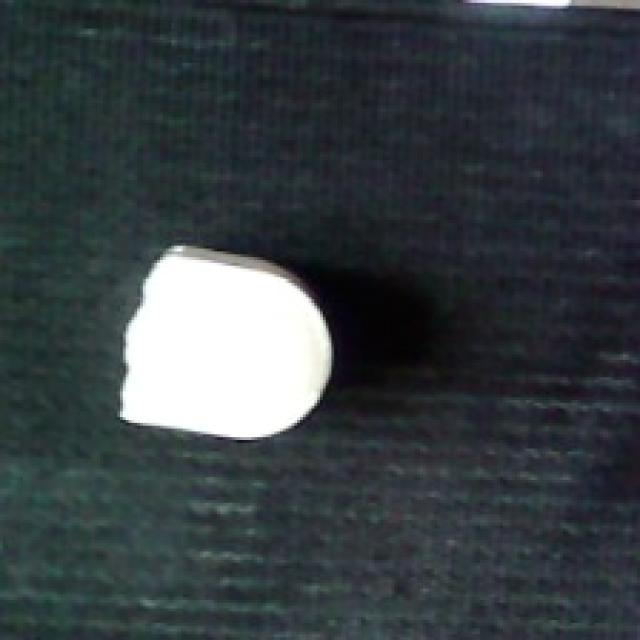defected: (111, 240, 340, 454)
